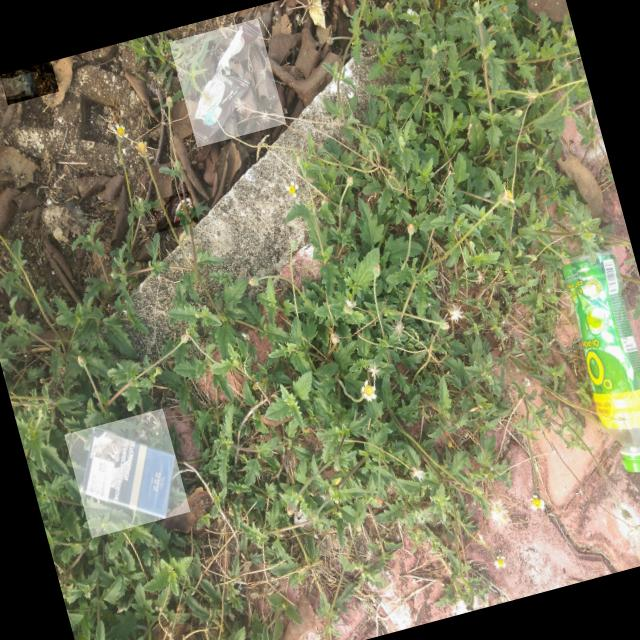Bottle cap: (622, 458, 640, 472)
Clear plastic bottle: (562, 251, 640, 472)
Other Carton: (79, 427, 174, 518)
Other plastic: (192, 21, 260, 146), (155, 196, 193, 232)
Plastic film: (0, 69, 55, 100)
